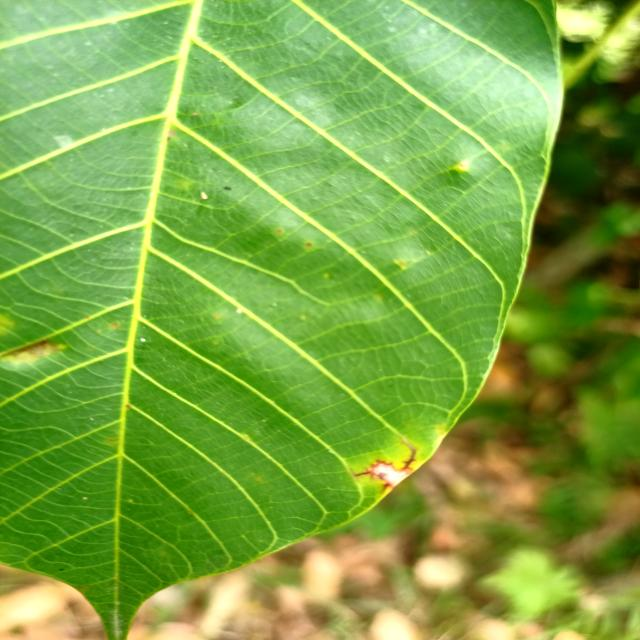Corynespora: (401, 449, 417, 470)
